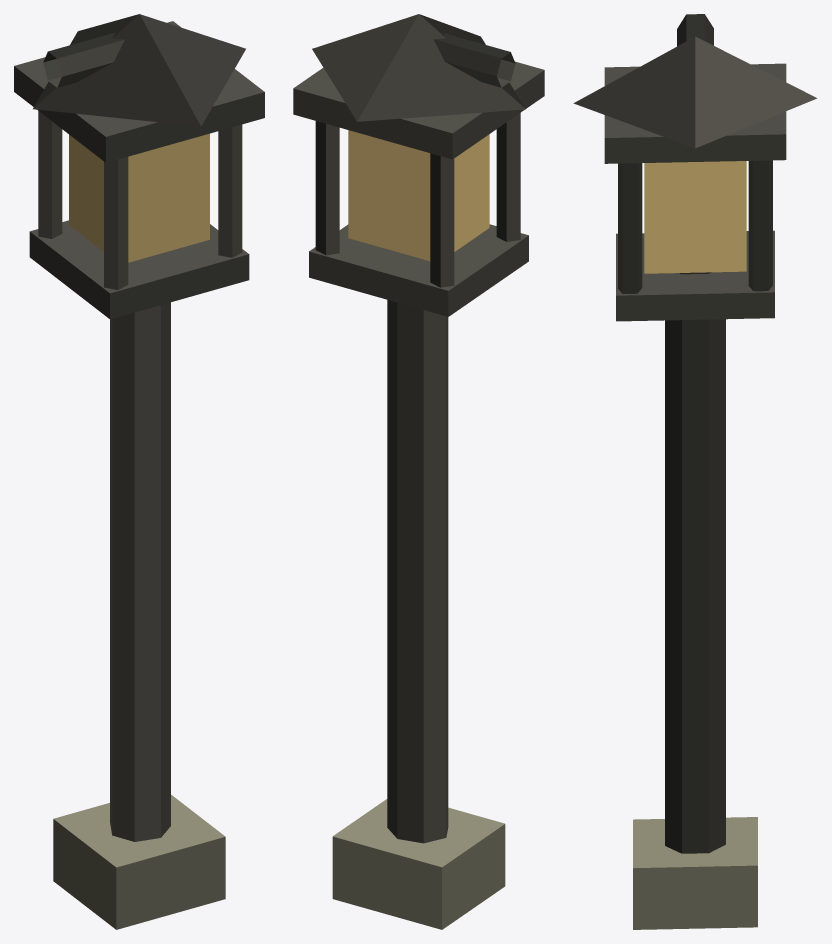
3 views of the same model, side by side, from view 1: azimuth 30°, elevation 25°; view 2: azimuth 150°, elevation 25°; view 3: azimuth 270°, elevation 25° (orthographic).
Parts seen in each view (by area): view 1: 914878b7ba81cb9a0a3b6f39e0c0a488aec4503244b3564c8b5d3368b23d; view 2: 914878b7ba81cb9a0a3b6f39e0c0a488aec4503244b3564c8b5d3368b23d; view 3: 914878b7ba81cb9a0a3b6f39e0c0a488aec4503244b3564c8b5d3368b23d.
Boxes of the visible parts, left/top/right/bottom form: 914878b7ba81cb9a0a3b6f39e0c0a488aec4503244b3564c8b5d3368b23d: left=14, top=14, right=264, bottom=929; 914878b7ba81cb9a0a3b6f39e0c0a488aec4503244b3564c8b5d3368b23d: left=293, top=14, right=544, bottom=929; 914878b7ba81cb9a0a3b6f39e0c0a488aec4503244b3564c8b5d3368b23d: left=573, top=14, right=817, bottom=929.
Size of the model in its own units: 0.86 by 3.38 by 0.86.
2 materials, 1 textured.
